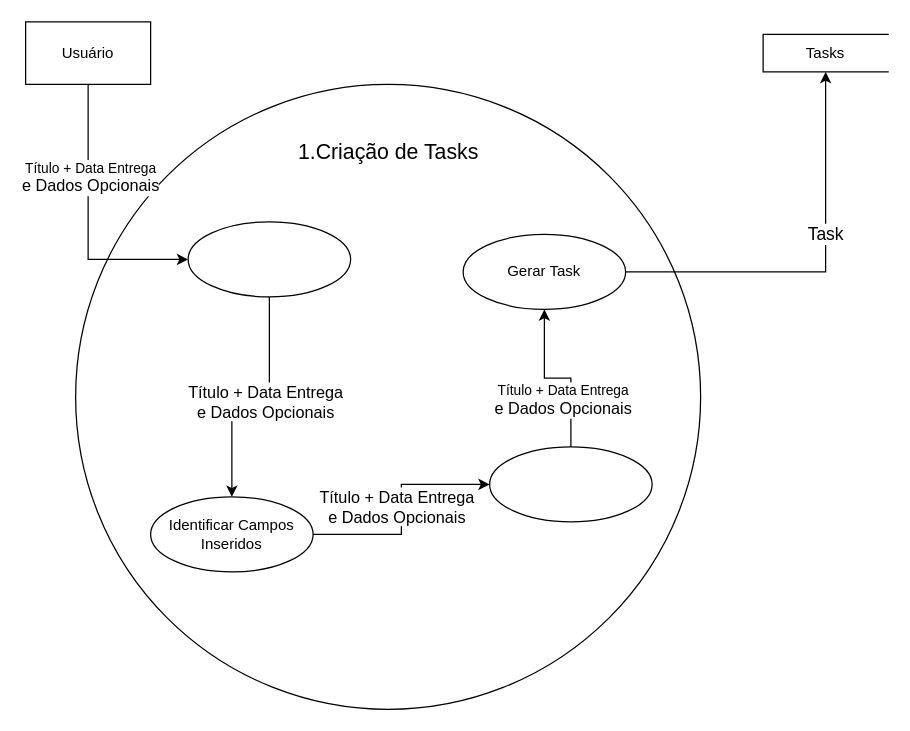
Image size: 910x731. Some labels were removed from this diagram. The box of each missing label's shape, as (x1, y1, x2, y2) in pixels:
Identificar Dados Inseridos: (187, 221, 351, 297)
Padronizar e Validar Informações: (488, 446, 652, 522)
